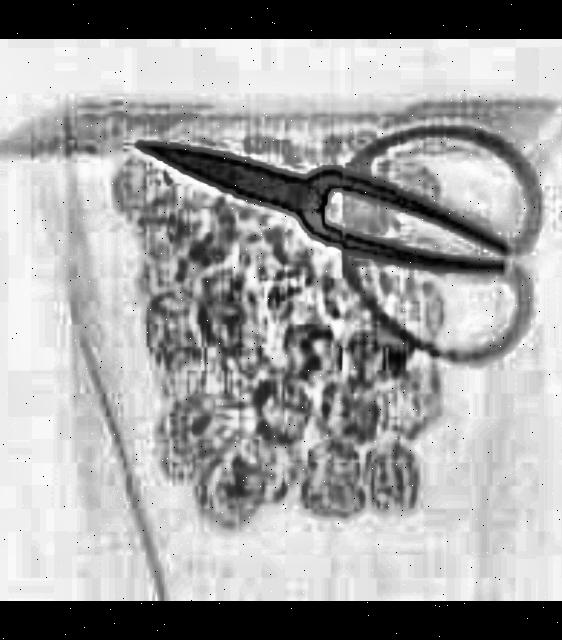Scissors: (98, 42, 562, 381)
